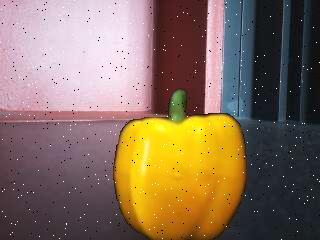Capsicum: (112, 90, 247, 240)
